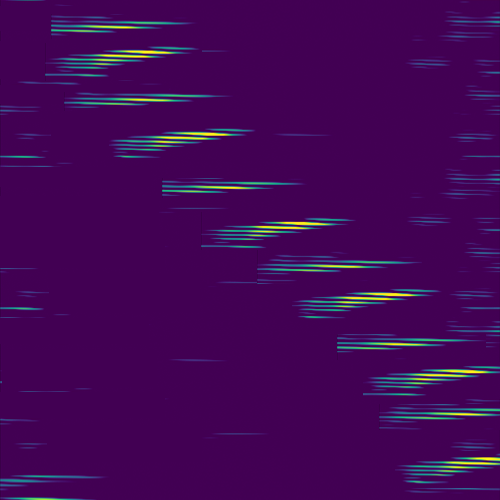semblance: (58, 47, 181, 67), (333, 285, 413, 312), (397, 365, 493, 385), (50, 17, 160, 34), (244, 218, 329, 239), (142, 127, 231, 147), (440, 452, 500, 473), (94, 96, 179, 108), (198, 182, 250, 194), (308, 261, 371, 270), (430, 410, 488, 419), (377, 339, 429, 347)
